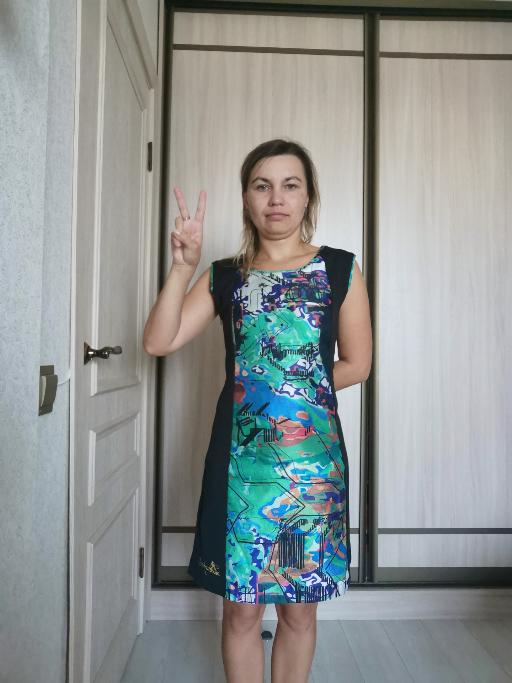peace: (169, 185, 208, 267)
